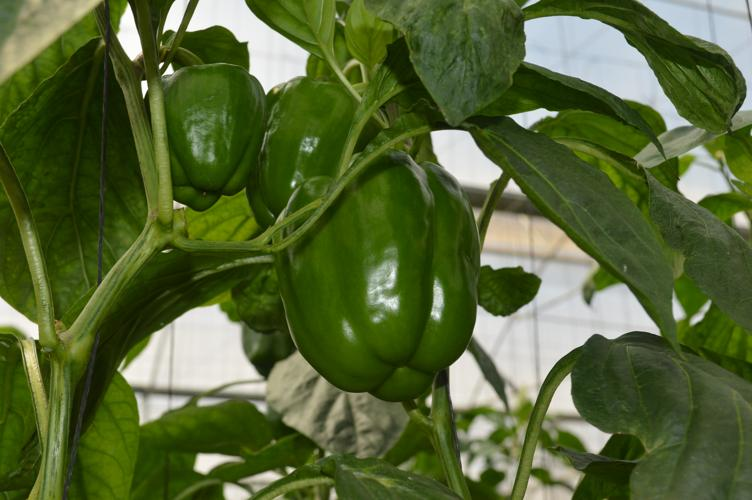BellPepper: (271, 150, 485, 388), (154, 60, 263, 211), (251, 79, 364, 220)
